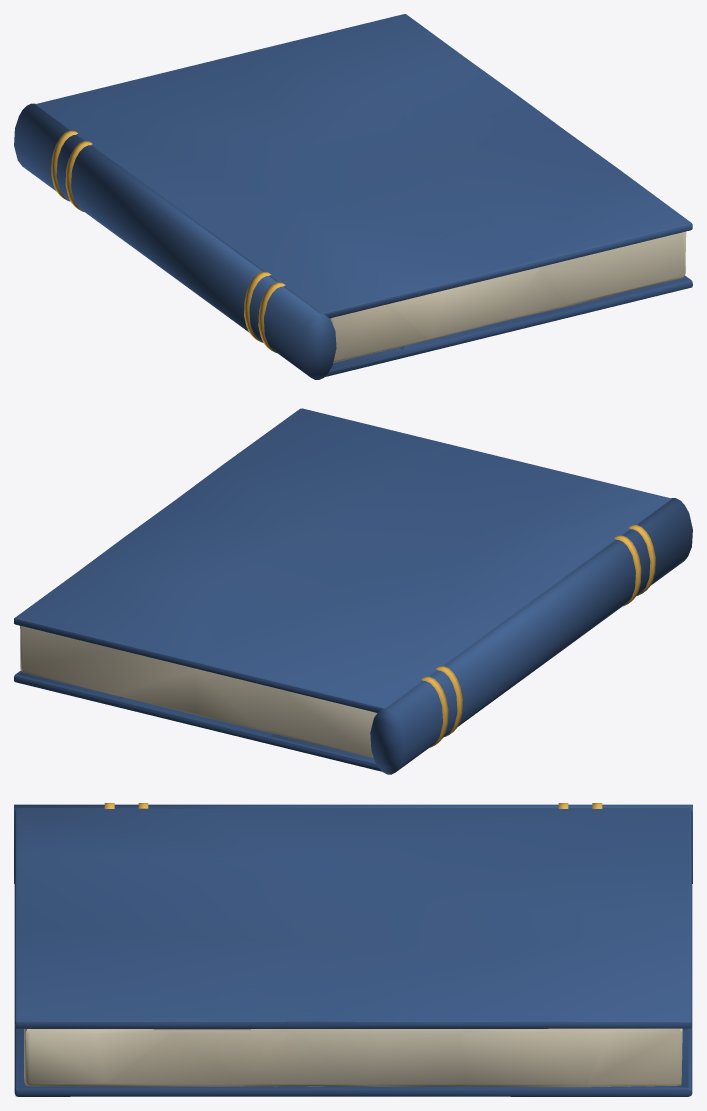
File: frost_book_blue_lod1.glb
3 views of the same model, one above another, from view 1: azimuth 30°, elevation 25°; view 2: azimuth 150°, elevation 25°; view 3: azimuth 270°, elevation 25° (orthographic). The views are drawn at different scales.
Visible parts, largest first — view 1: frost_book_blue.001; view 2: frost_book_blue.001; view 3: frost_book_blue.001.
Part boxes in pixels (x1,y1,x2,y2): frost_book_blue.001: [14, 14, 692, 379]; frost_book_blue.001: [14, 408, 692, 774]; frost_book_blue.001: [14, 803, 692, 1096].
Size of the model in its own units: 18.96 by 3.12 by 24.05.
